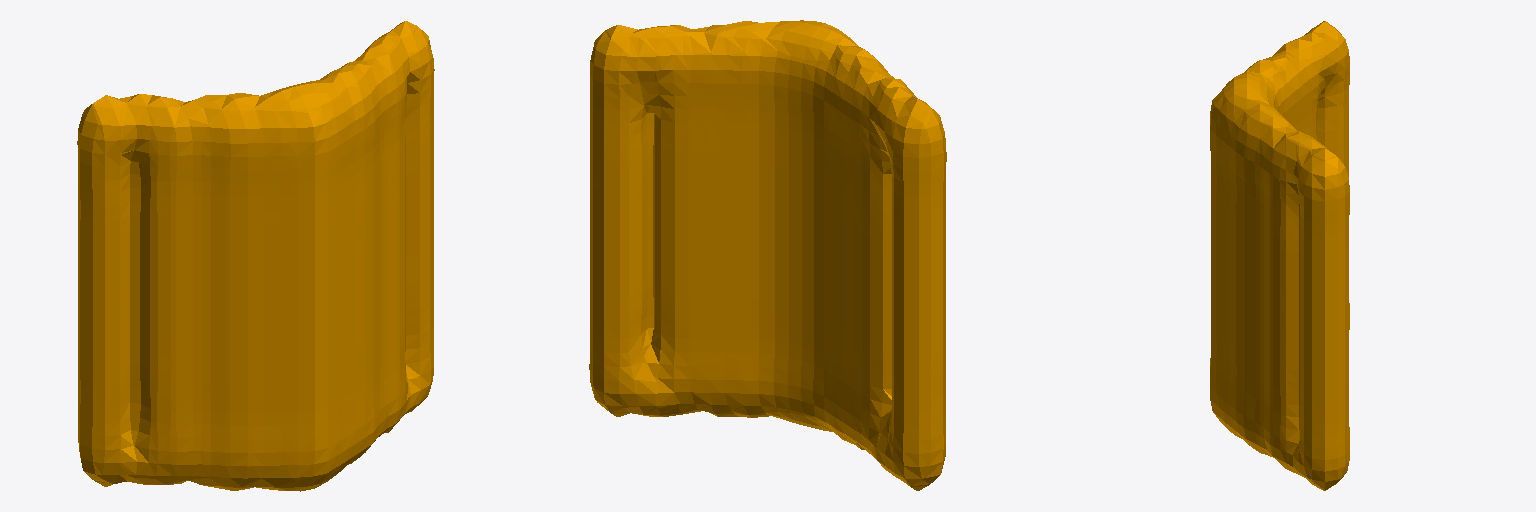
robot.urdf — U11_1:
<?xml version="1.0"?>
<robot name="U11_1">
  <link name="base_link">
    <inertial>
      <mass value="0.09617" />
      <origin xyz="0 0 0" />
      <inertia  ixx="0.0002" ixy="0.0"  ixz="0.0"  iyy="0.0002"  iyz="0.0" izz="0.0002" />
    </inertial>
    <visual>
      <geometry>
        <mesh filename="../../../meshes/egad/train/U11_1.obj" />
      </geometry>
    </visual>
    <collision>
      <geometry>
        <mesh filename="../../../meshes/egad/train/U11_1.obj" />
      </geometry>
    </collision>
  </link>
</robot>

--- What the picture shows (computed from the rendered views, not written in the file) ---
The picture shows the robot from 3 angles, left to right: view 1: azimuth 30°, elevation 25°; view 2: azimuth 150°, elevation 25°; view 3: azimuth 270°, elevation 25°; orthographic projection.
Model U11_1 with 1 links and 0 joints (none), rooted at base_link, posed every joint at zero.
Visible links, largest first — view 1: base_link; view 2: base_link; view 3: base_link.
Link boxes in pixels (left/top/right/bottom): base_link: left=77, top=21, right=434, bottom=491; base_link: left=589, top=20, right=946, bottom=490; base_link: left=1210, top=21, right=1349, bottom=490.
Size in the robot's own frame: 0.0687 by 0.027 by 0.075 metres.
1 mesh visuals loaded from 1 distinct referenced files (1 OBJ).